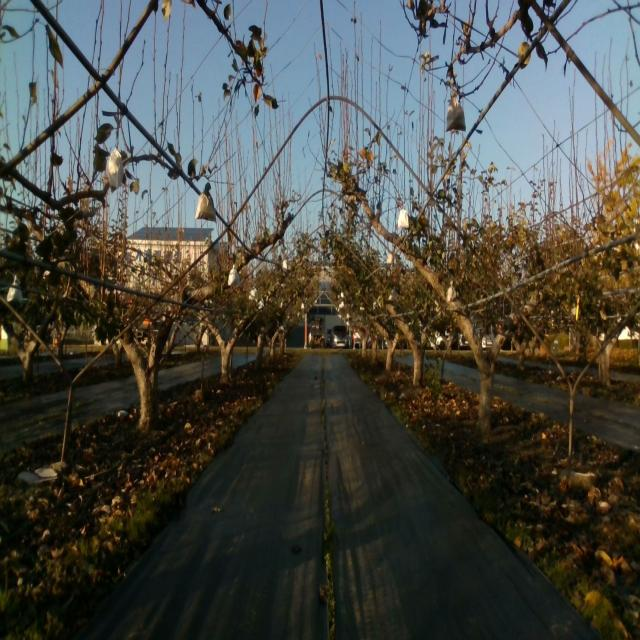pearbags: (195, 181, 217, 222), (105, 145, 124, 191), (444, 96, 466, 133), (396, 204, 409, 229), (228, 265, 241, 286)
